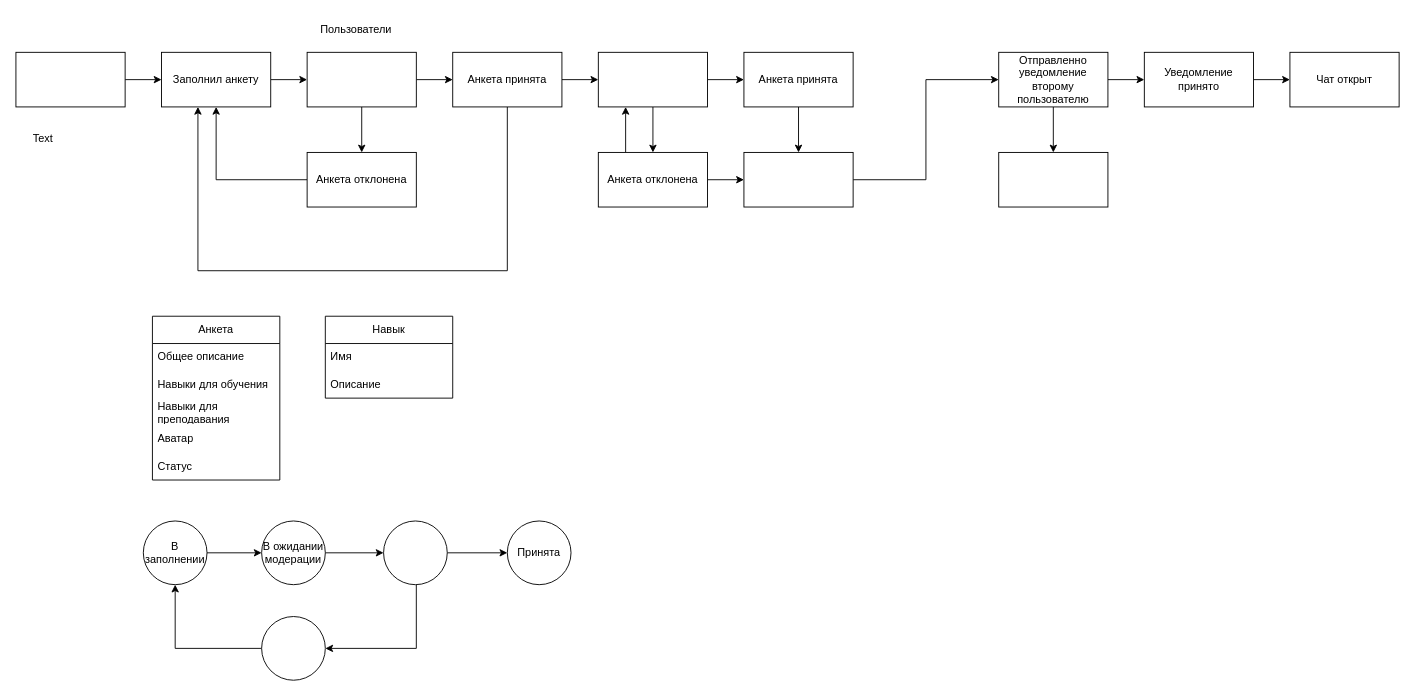
This 1415x696 diagram has some shape labels left out. The shapes that lost their labels are listed below. From the top down, each one's centre as x and y in pixels, then its label:
At [70,79]: "Пользователь зарегистрирован".
At [361,79]: "Анкета промодерированна".
At [652,79]: "Подобрана релевантная анкета".
At [798,179]: "Анкета исключена из пула подбора".
At [1053,179]: "Уведомление отклонено".
At [415,552]: "В модерации".
At [293,648]: "Отклонена".
